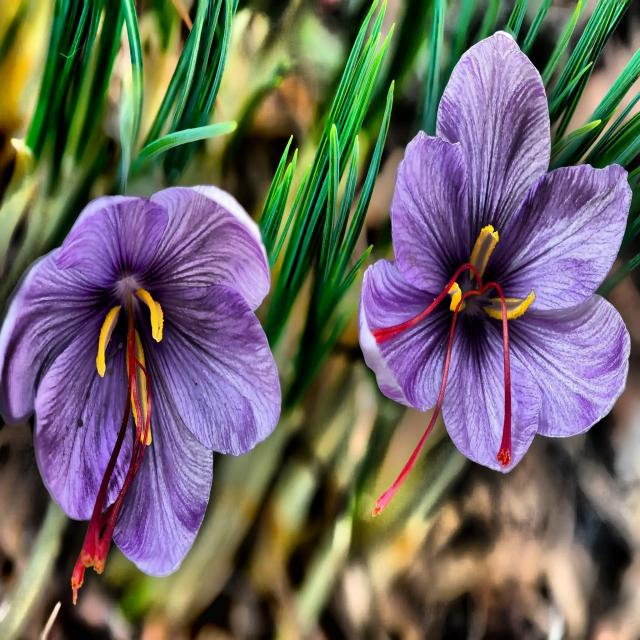Flower: (354, 22, 635, 526), (0, 175, 289, 613)
stigma: (370, 287, 484, 518), (70, 308, 154, 607), (80, 326, 138, 570), (92, 326, 141, 574), (368, 260, 485, 346), (480, 282, 514, 469)
